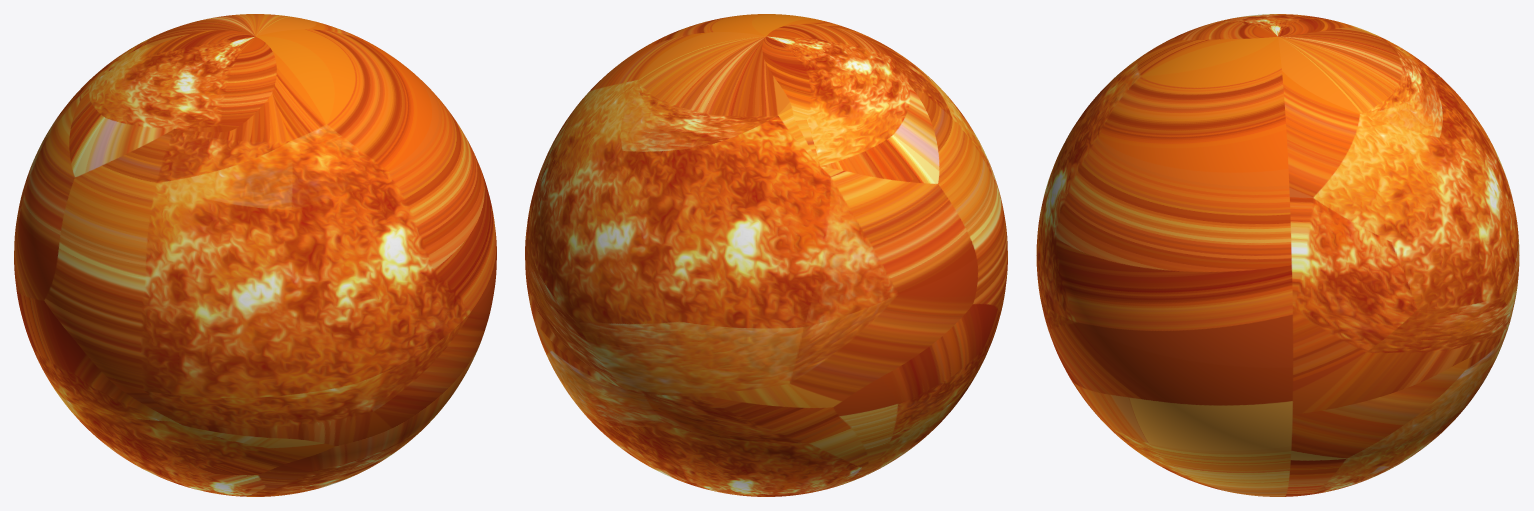
The model's file is sol.obj.
3 views of the same model, side by side, from view 1: azimuth 30°, elevation 25°; view 2: azimuth 150°, elevation 25°; view 3: azimuth 270°, elevation 25° (orthographic).
Parts seen in each view (by area): view 1: node_id30; view 2: node_id30; view 3: node_id30.
Part boxes in pixels (x1,y1,x2,y2): node_id30: [14, 14, 496, 496]; node_id30: [525, 14, 1007, 496]; node_id30: [1036, 14, 1519, 496].
Bounding box in the file's own units: 0.512 × 0.512 × 0.512.
Materials: 1 (1 with a texture image).
